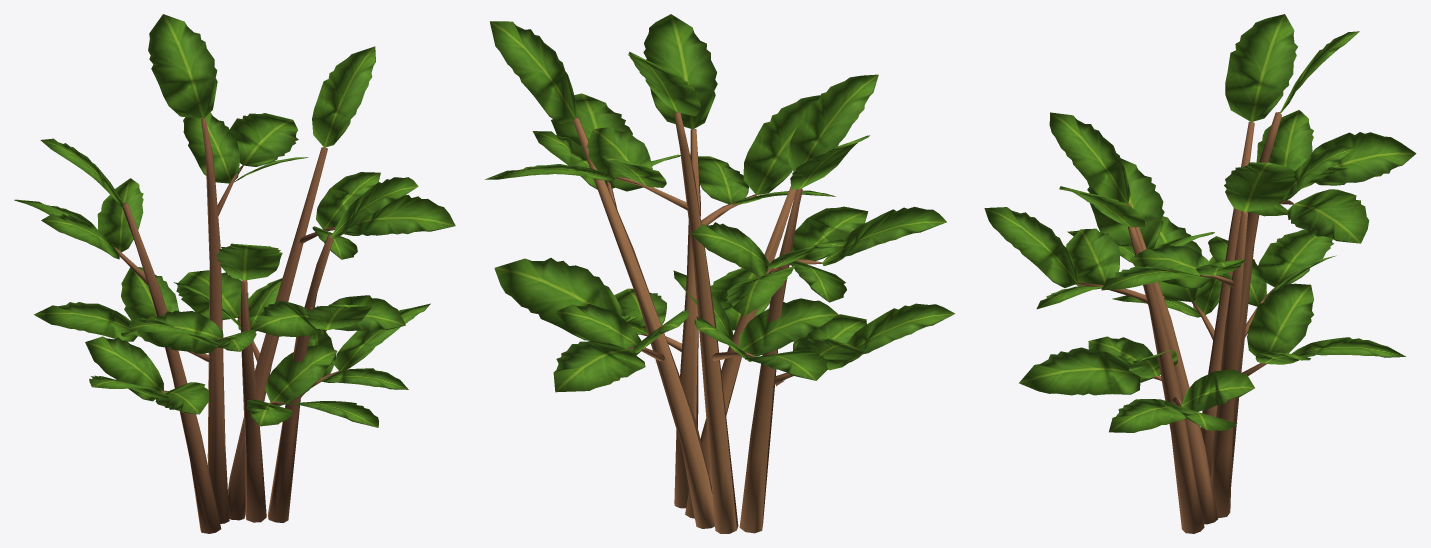
File: NP_Raspberry_Young_LOD1.fbx
The picture shows the model from 3 angles, left to right: view 1: azimuth 30°, elevation 25°; view 2: azimuth 150°, elevation 25°; view 3: azimuth 270°, elevation 25°; orthographic projection. The views are drawn at different scales.
Parts seen in each view (by area): view 1: NP_Raspberry_Young; view 2: NP_Raspberry_Young; view 3: NP_Raspberry_Young.
Part boxes in pixels (x1=…): NP_Raspberry_Young: x1=14, y1=14, x2=455, y2=533; NP_Raspberry_Young: x1=485, y1=14, x2=954, y2=533; NP_Raspberry_Young: x1=984, y1=14, x2=1416, y2=533.
Bounding box in the file's own units: 45.47 × 53.67 × 43.78.
1 material, 1 textured.
